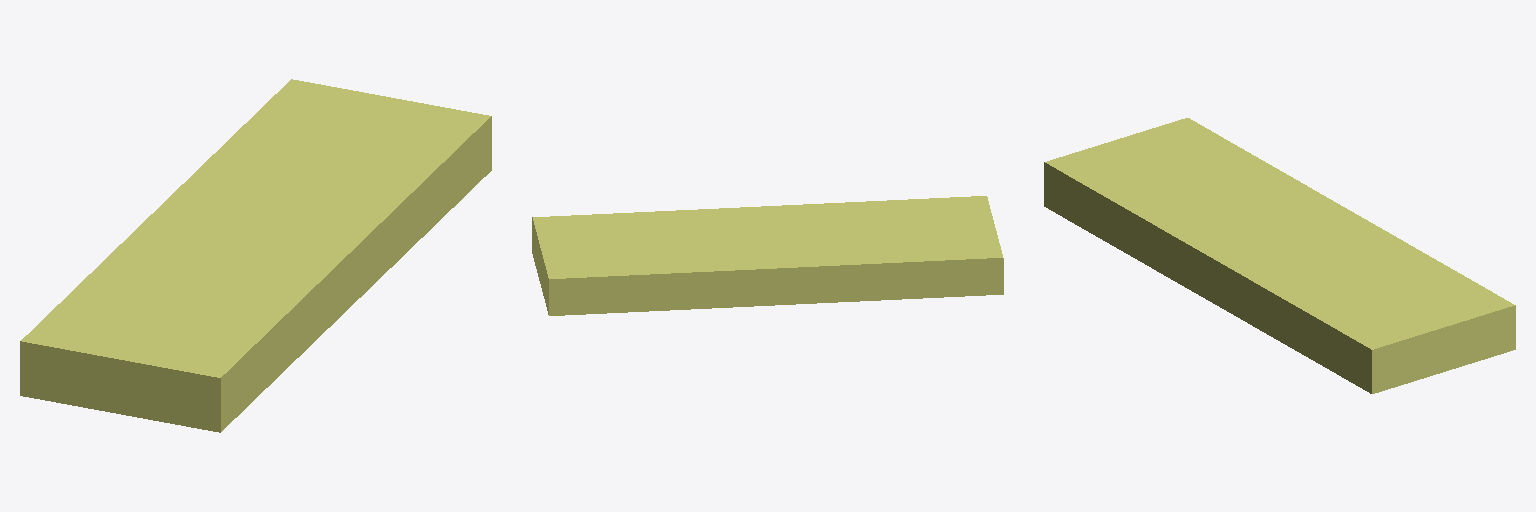
The robot description file, URDF, robot "Interference":
<?xml version="1.0"?>
<robot name="Interference">
  <link name="baseLink">
    <inertial>
      <origin xyz="0.0 0.0 0.0" rpy="0.0 0.0 0.0"/>
      <inertia ixx="0.0" ixy="0.0" ixz="0.0" iyy="0.0" iyz="0.0" izz="0.0"/>
      <mass value="0"/>
    </inertial>
    <visual>
      <origin xyz="0.0 0.0 0.0" rpy="0.0 0.0 0.635496872152336"/>
      <geometry>
        <box size="0.11225061488894118 0.036213844646559634 0.01"/>
      </geometry>
      <material name="color">
        <color rgba="0.8381043853630386 0.8481240892016817 0.5048915516062497 1.0"/>
      </material>
    </visual>
  </link>
</robot>

--- Facts derived from the render (not from the file) ---
3 views of the same robot in one strip: view 1: azimuth 30°, elevation 25°; view 2: azimuth 150°, elevation 25°; view 3: azimuth 270°, elevation 25° (orthographic).
Model Interference with 1 links and 0 joints (none), rooted at baseLink, posed every joint at zero.
Links seen in each view (by area): view 1: baseLink; view 2: baseLink; view 3: baseLink.
Link boxes in pixels (bbox=[...]): baseLink: bbox=[20, 79, 491, 432]; baseLink: bbox=[532, 196, 1003, 315]; baseLink: bbox=[1044, 118, 1515, 393].
Bounding box of the posed robot: 0.1118 × 0.0958 × 0.01 m (x, y, z).
Geometry: primitives only (box / cylinder / sphere), no mesh files.